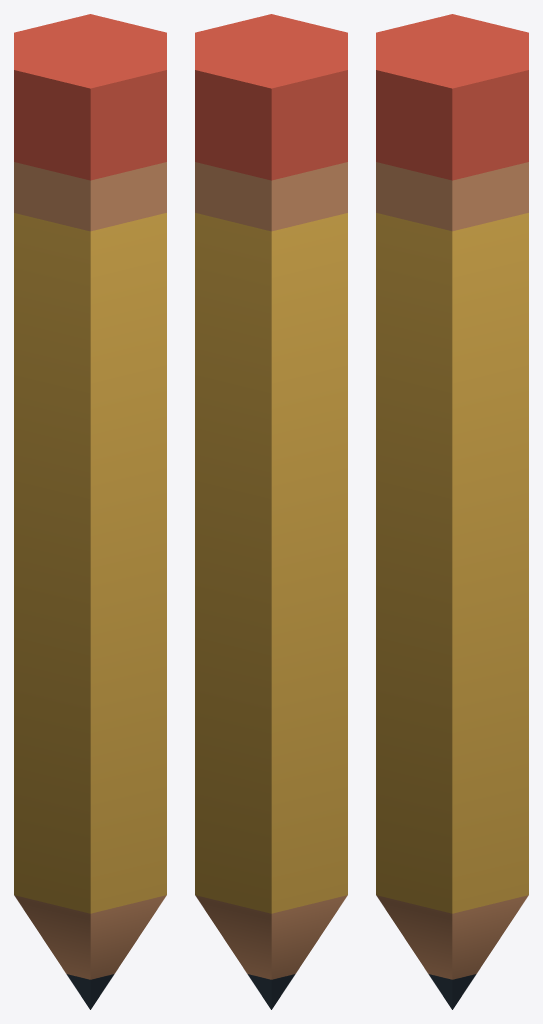
Rendered from pencil.fbx.
The picture shows the model from 3 angles, left to right: view 1: azimuth 30°, elevation 25°; view 2: azimuth 150°, elevation 25°; view 3: azimuth 270°, elevation 25°; orthographic projection.
Parts seen in each view (by area): view 1: pencil; view 2: pencil; view 3: pencil.
Boxes of the visible parts, x1,y1,x2,y2 form: pencil: [14, 14, 166, 1009]; pencil: [195, 14, 347, 1009]; pencil: [376, 14, 528, 1009].
Size of the model in its own units: 88 by 527 by 76.21.
